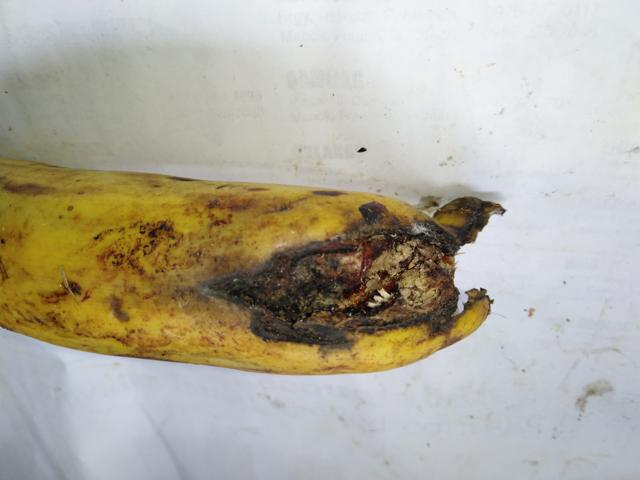ripe: (0, 151, 503, 377)
rotten: (185, 184, 512, 362)
